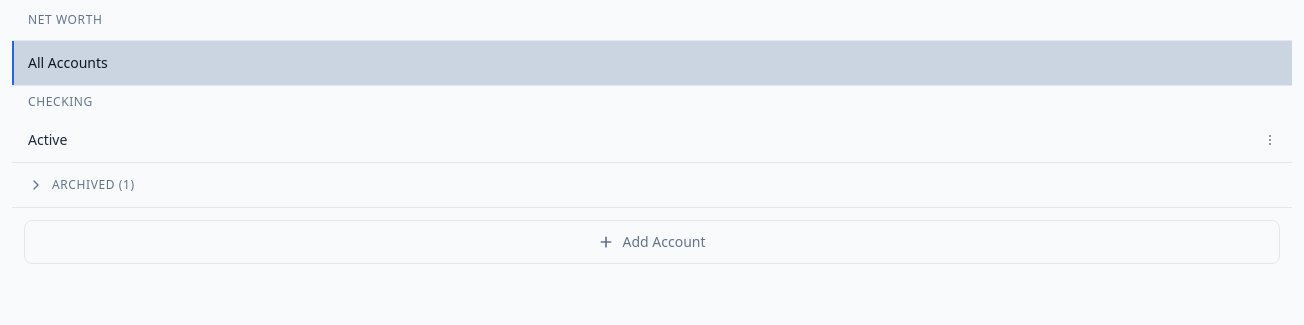
Test: AccountSidebar › archived accounts › expands archived group on click
Click the button "Archived (1)": (88, 184) [12, 163, 1292, 207]
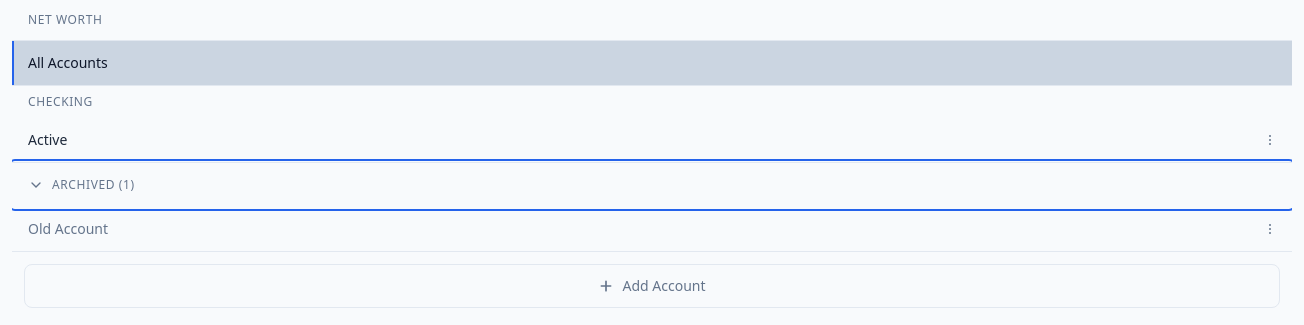
Now the text "Old Account" is shown, box [28, 219, 108, 239]
